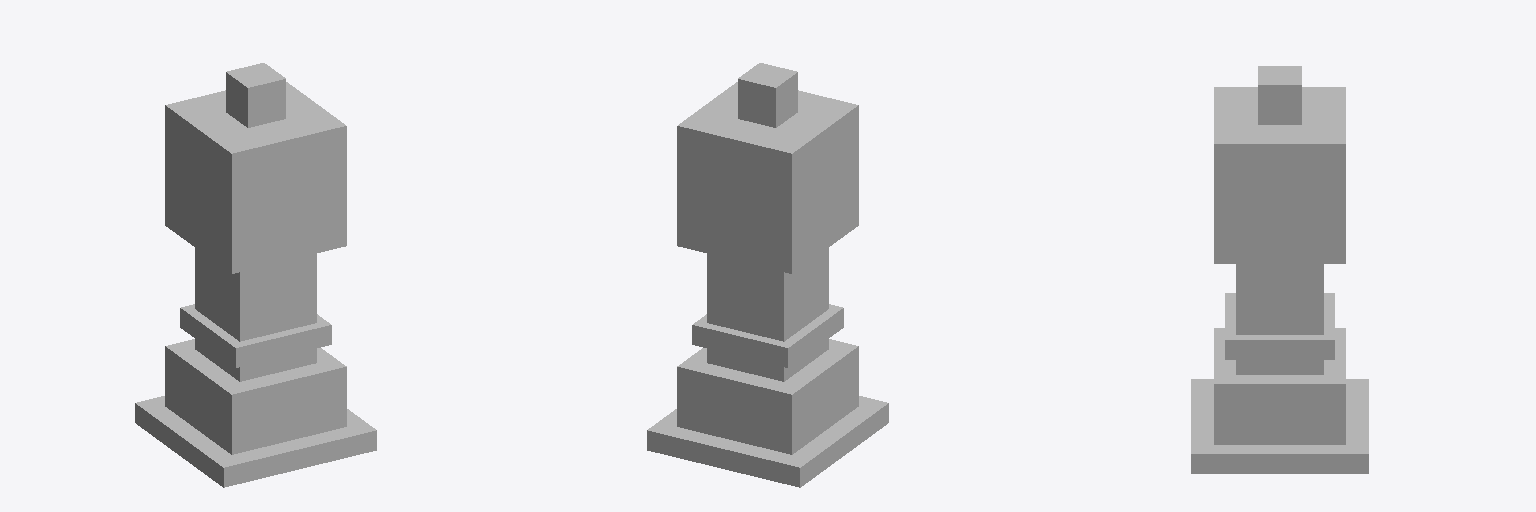
File: bishop.obj
3 renders of one model, left to right at view 1: azimuth 30°, elevation 25°; view 2: azimuth 150°, elevation 25°; view 3: azimuth 270°, elevation 25°, orthographic.
Visible parts, largest first — view 1: cube.001, cube.003, cube, cube.004, cube.002, cube.005; view 2: cube.001, cube.003, cube, cube.004, cube.002, cube.005; view 3: cube.001, cube.003, cube.004, cube, cube.002, cube.005.
Part boxes in pixels (left/top/right/bottom): cube.001: left=165, top=82, right=346, bottom=273; cube.003: left=165, top=339, right=346, bottom=454; cube: left=195, top=248, right=316, bottom=381; cube.004: left=135, top=396, right=376, bottom=487; cube.002: left=180, top=304, right=331, bottom=367; cube.005: left=226, top=63, right=285, bottom=127; cube.001: left=677, top=82, right=858, bottom=273; cube.003: left=677, top=339, right=858, bottom=454; cube: left=707, top=248, right=828, bottom=381; cube.004: left=647, top=396, right=888, bottom=487; cube.002: left=692, top=304, right=843, bottom=367; cube.005: left=738, top=63, right=797, bottom=127; cube.001: left=1214, top=87, right=1345, bottom=263; cube.003: left=1214, top=328, right=1345, bottom=444; cube.004: left=1191, top=379, right=1368, bottom=473; cube: left=1236, top=264, right=1323, bottom=374; cube.002: left=1225, top=293, right=1334, bottom=359; cube.005: left=1258, top=66, right=1301, bottom=124.
Size of the model in its own units: 0.5 by 1.12 by 0.5.